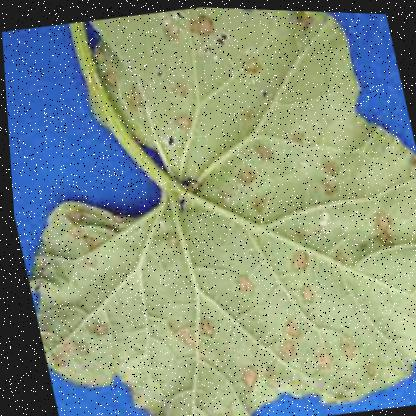Anthracnose: (179, 120, 415, 360), (13, 178, 266, 381), (168, 224, 371, 415), (122, 4, 323, 160)
